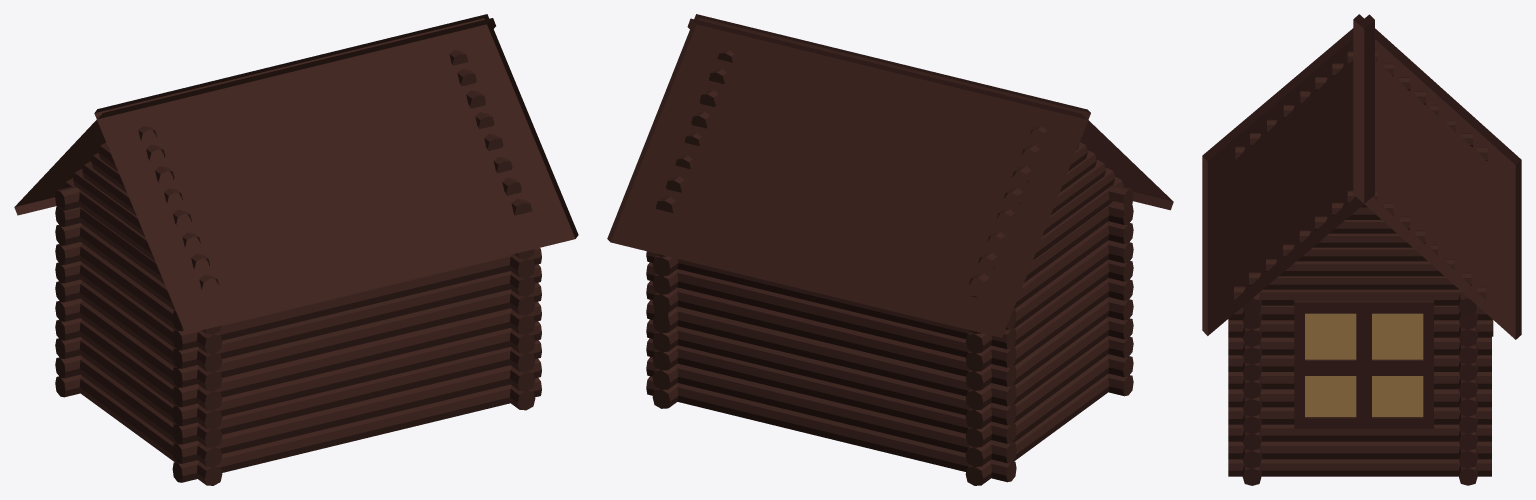
File: Yamagoya.fbx
The picture shows the model from 3 angles, left to right: view 1: azimuth 30°, elevation 25°; view 2: azimuth 150°, elevation 25°; view 3: azimuth 270°, elevation 25°; orthographic projection. The views are drawn at different scales.
Visible parts, largest first — view 1: 平面.003; view 2: 平面.003; view 3: 平面.003.
Part boxes in pixels (left/top/right/bottom): 平面.003: left=14, top=14, right=578, bottom=485; 平面.003: left=607, top=14, right=1173, bottom=485; 平面.003: left=1202, top=14, right=1521, bottom=485.
Bounding box in the file's own units: 1770 × 1435 × 1369.
